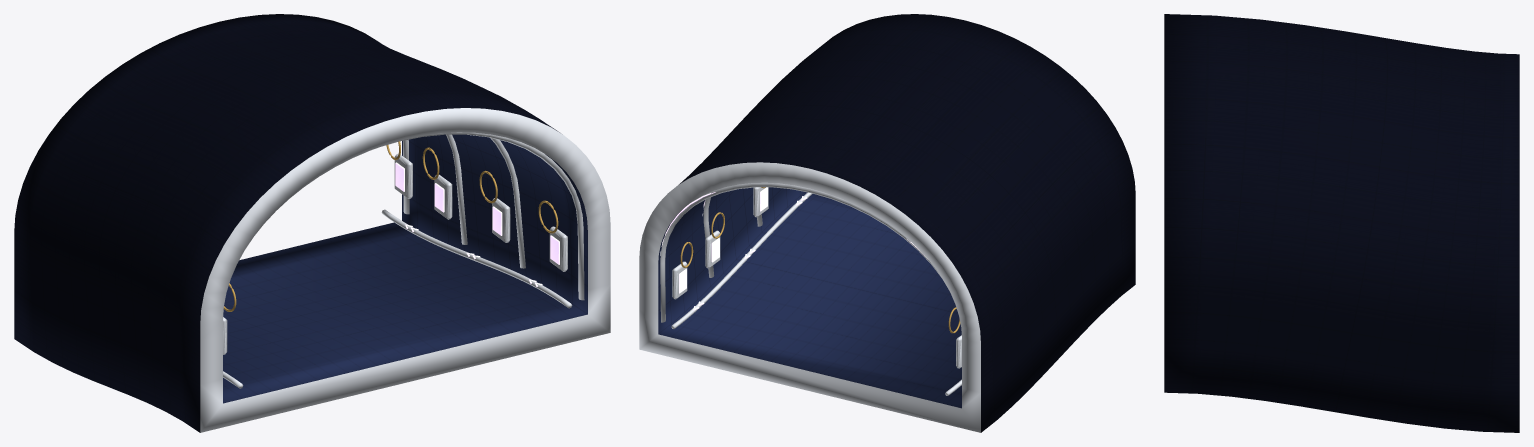
File: grade_down_lod1.glb
3 renders of one model, left to right at view 1: azimuth 30°, elevation 25°; view 2: azimuth 150°, elevation 25°; view 3: azimuth 270°, elevation 25°, orthographic. The views are drawn at different scales.
Parts seen in each view (by area): view 1: TunnelGeometry.001; view 2: TunnelGeometry.001; view 3: TunnelGeometry.001.
Part boxes in pixels (x1,y1,x2,y2): TunnelGeometry.001: [14, 14, 610, 432]; TunnelGeometry.001: [639, 14, 1135, 432]; TunnelGeometry.001: [1164, 14, 1519, 432].
Bounding box in the file's own units: 15.3 × 11.02 × 12.
Materials: 5 (2 with a texture image).
